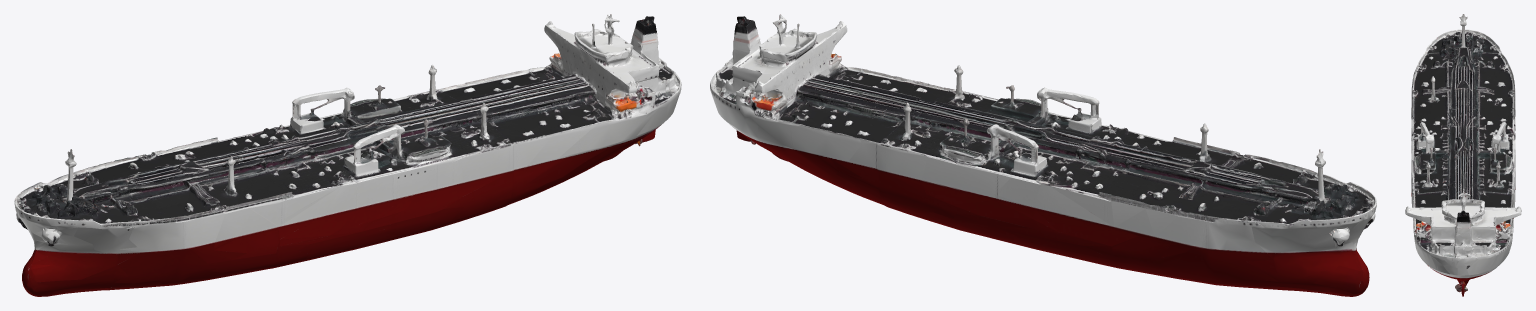
Rendered from vlcc-tanker-meshy6-web-v1.glb.
3 views of the same model, side by side, from view 1: azimuth 30°, elevation 25°; view 2: azimuth 150°, elevation 25°; view 3: azimuth 270°, elevation 25° (orthographic). The views are drawn at different scales.
Size of the model in its own units: 1.9 by 0.4073 by 0.4303.
1 material, 1 textured.
